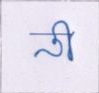i_matra: (56, 20, 77, 60)
